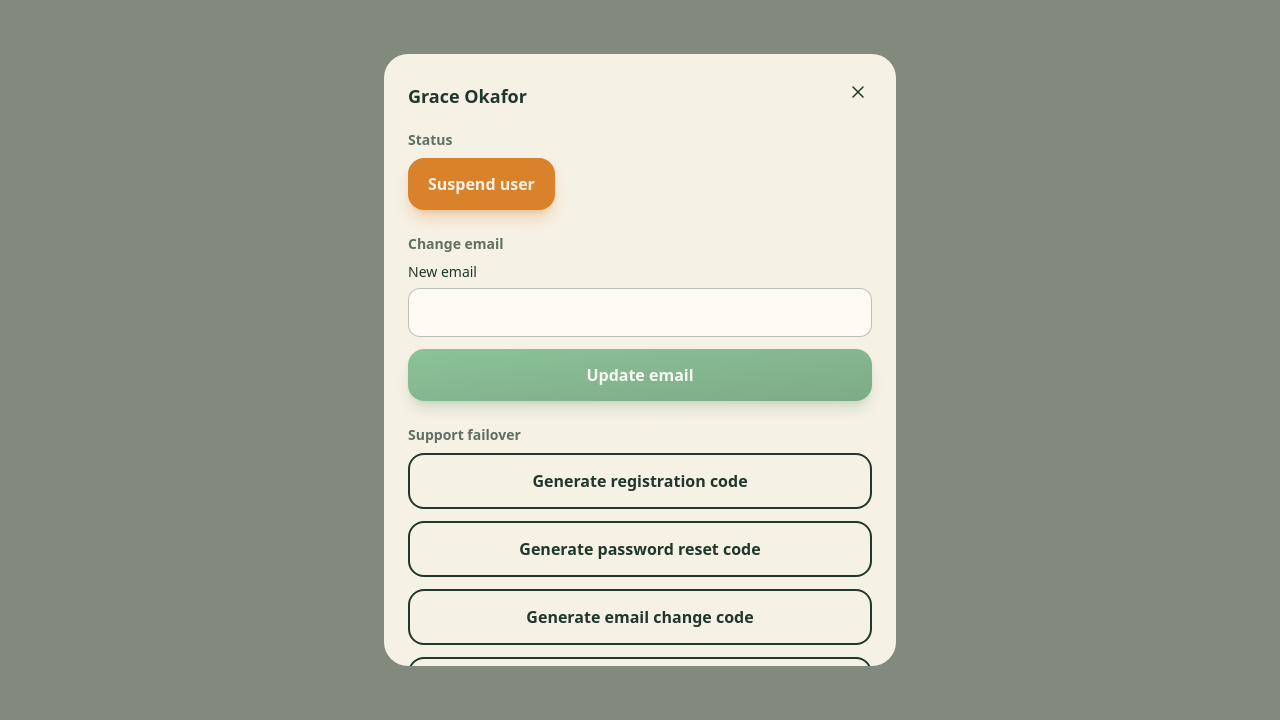
Test: UserManageSheet › shows the generated code after a successful failover request
The width and height of the screenshot is (1280, 720).
Click the button "Generate registration code" at (640, 480), box [408,452,872,508]
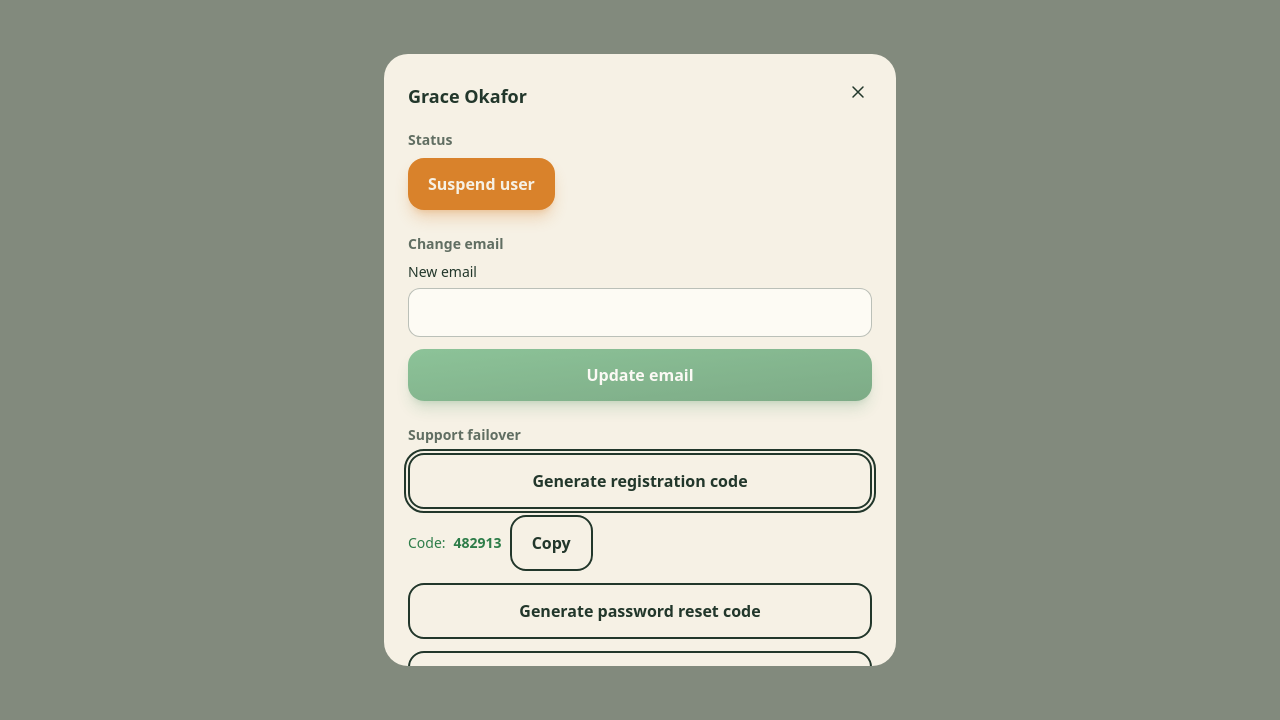
Result: the text "482913" is shown at [454,532,502,552]
